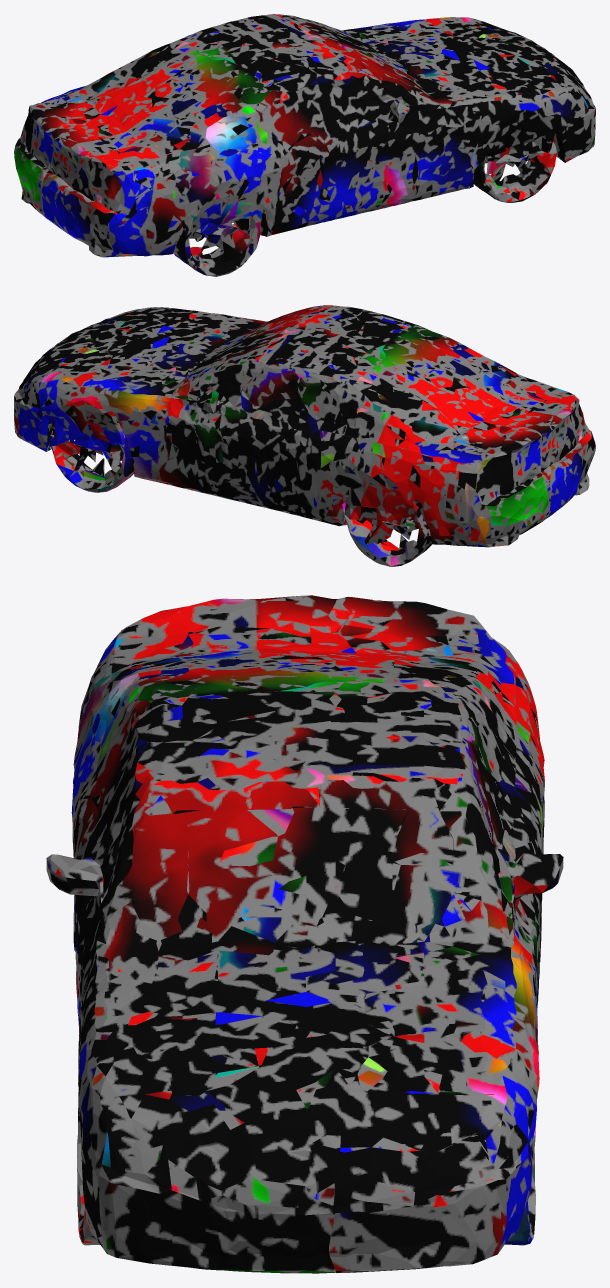
3 views of the same model, one above another, from view 1: azimuth 30°, elevation 25°; view 2: azimuth 150°, elevation 25°; view 3: azimuth 270°, elevation 25° (orthographic). The views are drawn at different scales.
Bounding box in the file's own units: 0.898 × 0.269 × 0.3892.
